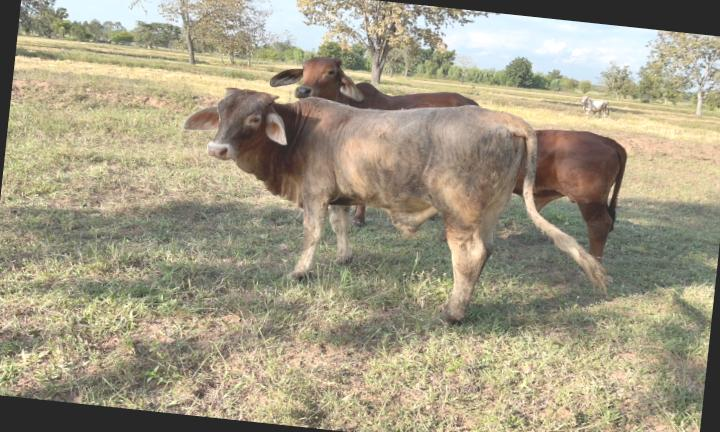Charolais: (183, 88, 605, 322)
